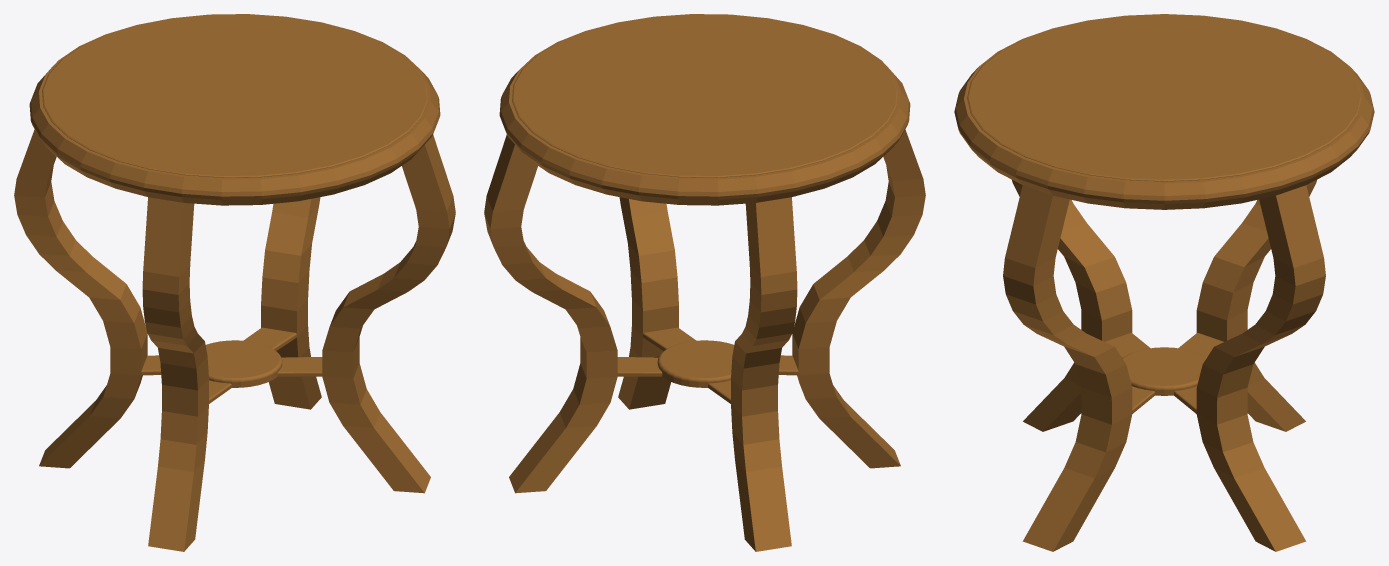
File: Meja.fbx
3 renders of one model, left to right at view 1: azimuth 30°, elevation 25°; view 2: azimuth 150°, elevation 25°; view 3: azimuth 270°, elevation 25°, orthographic. The views are drawn at different scales.
Parts seen in each view (by area): view 1: Circle; view 2: Circle; view 3: Circle.
Boxes of the visible parts, x1=… form: Circle: x1=14, y1=14, x2=455, y2=551; Circle: x1=484, y1=14, x2=925, y2=551; Circle: x1=954, y1=14, x2=1374, y2=551.
Bounding box in the file's own units: 210 × 211 × 210.
